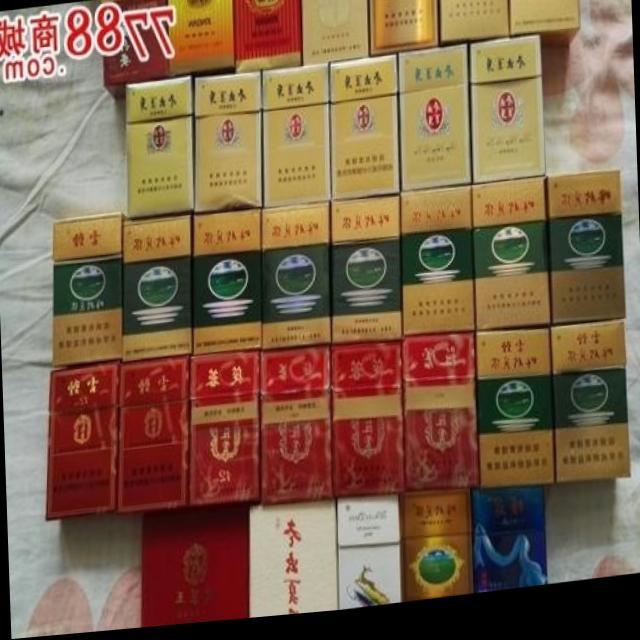box: (139, 507, 249, 630), (550, 332, 630, 491), (401, 340, 480, 500), (470, 186, 551, 340), (476, 336, 554, 495), (545, 182, 625, 336), (45, 362, 121, 520), (259, 350, 334, 508), (116, 360, 191, 516), (331, 345, 404, 504), (400, 192, 476, 343), (469, 45, 546, 192), (396, 51, 472, 199), (189, 354, 260, 509), (53, 215, 125, 367), (121, 216, 194, 364), (248, 505, 339, 623), (329, 60, 401, 207), (330, 201, 401, 350), (191, 212, 262, 358), (262, 205, 331, 354), (261, 67, 330, 212), (125, 80, 194, 221), (194, 74, 262, 216), (400, 498, 476, 609), (471, 494, 547, 601), (336, 500, 404, 616), (102, 0, 170, 101), (234, 0, 303, 77), (168, 0, 235, 79), (302, 0, 369, 71), (368, 0, 439, 63), (509, 0, 581, 57), (440, 0, 510, 54)
